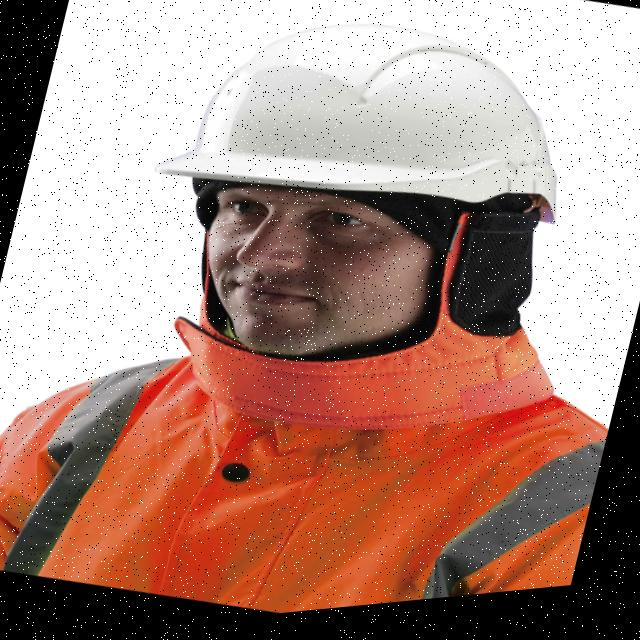illegal_helmet: (104, 0, 615, 446)
